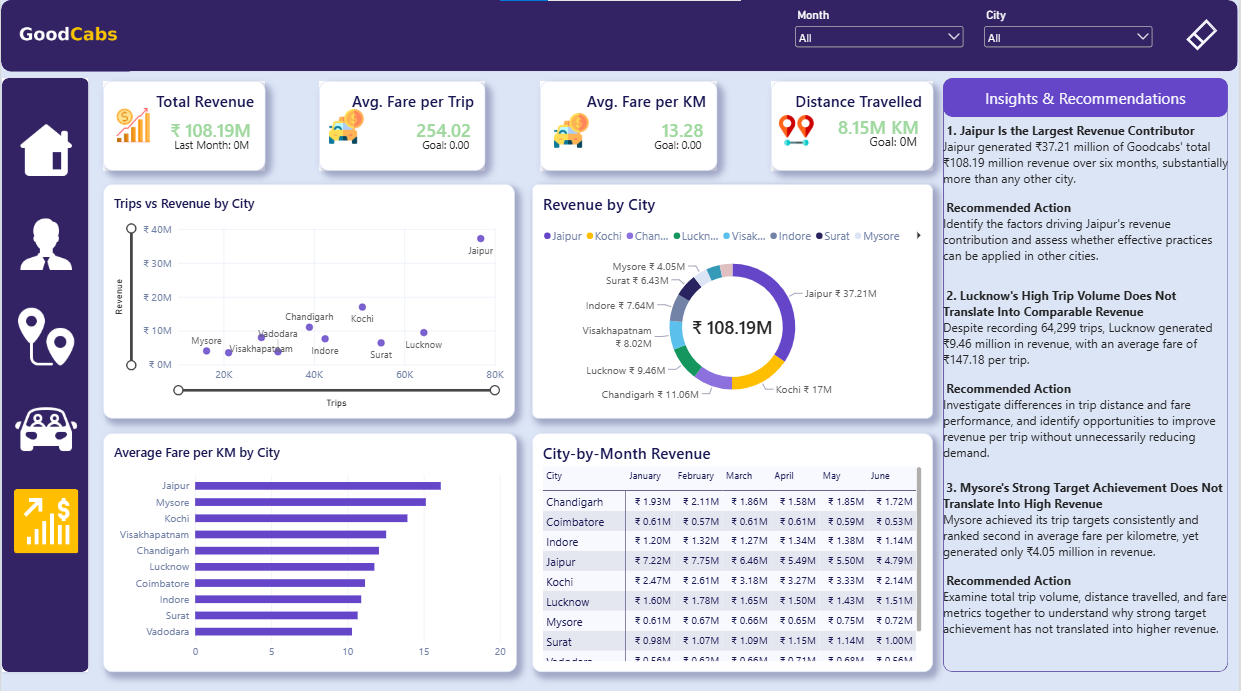

The dashboard page shown, as its layout file describes it:
{"tool":"powerbi","page":{"name":"Revenue Analysis","canvas":[1920,1080],"ordinal":4},"visuals":[{"type":"shape","box":[0,0,1919.3,110.6],"z":0},{"type":"shape","box":[2.2,121.4,134.5,921.7],"z":1000},{"type":"slicer","fields":{"Values":["dim_city.city_name"]},"box":[1521.3,13,271.1,86.7],"z":2000},{"type":"slicer","fields":{"Values":["dim_date.month_name"]},"box":[1227.5,13,271.1,86.7],"z":3000},{"type":"actionButton","box":[1815.2,13,88.9,86.7],"z":4000},{"type":"kpi","title":"Total Revenue","fields":{"Goal":["KEY MEASURES.TOTAL REVENUE LM KPI ALL"],"Indicator":["KEY MEASURES.TOTAL REVENUE KPI ALL"],"TrendLine":["dim_date.start_of_month"]},"box":[158.3,125.8,251.6,138.8],"z":5000,"group":"g4"},{"type":"scatterChart","title":"Trips vs Revenue by City","fields":{"Category":["dim_city.city_name"],"X":["KEY MEASURES.TOTAL TRIPS"],"Y":["KEY MEASURES.TOTAL REVENUE"]},"box":[158.3,286.3,639,364.3],"z":5000},{"type":"kpi","title":"Avg. Fare per Trip","fields":{"Goal":["KEY MEASURES.AVERAGE FARE PER TRIP KPI ALL LM"],"Indicator":["KEY MEASURES.AVERAGE FARE PER TRIP KPI ALL"],"TrendLine":["dim_date.start_of_month"]},"box":[493.7,125.8,258.1,138.8],"z":6000,"group":"g3"},{"type":"kpi","title":"Distance Travelled","fields":{"Goal":["KEY MEASURES.TOTAL DISTANCE LM KPI ALL"],"Indicator":["KEY MEASURES.TOTAL DISTANCE KPI ALL"],"TrendLine":["dim_date.start_of_month"]},"box":[1194.9,125.8,251.6,138.8],"z":6000,"group":"g2"},{"type":"pivotTable","title":"City-by-Month Revenue","fields":{"Columns":["dim_date.month_name"],"Rows":["dim_city.city_name"],"Values":["KEY MEASURES.TOTAL REVENUE"]},"box":[824.1,672.3,622.4,370.8],"z":6000},{"type":"kpi","title":"Avg. Fare per KM","fields":{"Goal":["KEY MEASURES.AVERAGE FARE PER KM LM KPI ALL"],"Indicator":["KEY MEASURES.AVERAGE FARE PER KM KPI ALL"],"TrendLine":["dim_date.start_of_month"]},"box":[835.7,125.8,275.4,138.8],"z":7000,"group":"g1"},{"type":"barChart","title":"Average Fare per KM by City","fields":{"Category":["dim_city.city_name"],"Y":["KEY MEASURES.AVERAGE FARE PER KM"]},"box":[158.3,672.3,641.9,370.8],"z":7000},{"type":"shape","box":[1461.7,121.4,442.4,921.7],"z":8000},{"type":"image","box":[2.2,0,210.4,110.6],"z":9000},{"type":"actionButton","box":[19.5,329.6,100,100],"z":10000},{"type":"actionButton","box":[19.5,472.8,100,100],"z":11000},{"type":"actionButton","box":[19.5,615.9,100,100],"z":12000},{"type":"actionButton","box":[19.5,759,100,100],"z":13000},{"type":"actionButton","box":[19.5,186.5,100,100],"z":14000},{"type":"donutChart","title":"Revenue by City","fields":{"Category":["dim_city.city_name"],"Y":["KEY MEASURES.TOTAL REVENUE"]},"box":[824.1,286.3,622,364],"z":15000},{"type":"group","id":"g1","title":"Group 1","box":[835.7,125.8,275.4,138.8],"z":16000},{"type":"group","id":"g2","title":"Group 3","box":[1194.9,125.8,251.6,138.8],"z":17000},{"type":"group","id":"g3","title":"Group 4","box":[493.7,125.8,258.1,138.8],"z":18000},{"type":"group","id":"g4","title":"Group 5","box":[158.3,125.8,251.6,138.8],"z":19000},{"type":"shape","box":[1461.7,121.4,442.4,60.7],"z":20000},{"type":"textbox","box":[1461.7,188.7,442.4,240.7],"z":21000},{"type":"textbox","box":[1461.7,444.6,442.4,277.6],"z":22000},{"type":"image","box":[1203.6,175.7,60.7,54.2],"z":23000,"group":"g2"},{"type":"textbox","box":[1461.7,743.9,442.4,277.6],"z":23000},{"type":"image","box":[508.9,169.2,54.2,54.2],"z":23002,"group":"g3"},{"type":"image","box":[857.4,175.7,54.2,54.2],"z":25000,"group":"g1"},{"type":"image","box":[177.8,167,54.2,54.2],"z":25001,"group":"g4"}]}

Visuals, with their boxes on the page's 1920x1080 design canvas (x1, y1, x2, y2). These are canvas units, not pixel positions in the 1241x691 screenshot, which may show the page scaled, cropped or inside an application window:
shape: <region>0, 0, 1919, 111</region>
shape: <region>2, 121, 137, 1043</region>
slicer - dim_city.city_name: <region>1521, 13, 1792, 100</region>
slicer - dim_date.month_name: <region>1228, 13, 1499, 100</region>
actionButton: <region>1815, 13, 1904, 100</region>
"Total Revenue" kpi: <region>158, 126, 410, 265</region>
"Trips vs Revenue by City" scatterChart: <region>158, 286, 797, 651</region>
"Avg. Fare per Trip" kpi: <region>494, 126, 752, 265</region>
"Distance Travelled" kpi: <region>1195, 126, 1446, 265</region>
"City-by-Month Revenue" pivotTable: <region>824, 672, 1446, 1043</region>
"Avg. Fare per KM" kpi: <region>836, 126, 1111, 265</region>
"Average Fare per KM by City" barChart: <region>158, 672, 800, 1043</region>
shape: <region>1462, 121, 1904, 1043</region>
image: <region>2, 0, 213, 111</region>
actionButton: <region>20, 330, 120, 430</region>
actionButton: <region>20, 473, 120, 573</region>
actionButton: <region>20, 616, 120, 716</region>
actionButton: <region>20, 759, 120, 859</region>
actionButton: <region>20, 186, 120, 286</region>
"Revenue by City" donutChart: <region>824, 286, 1446, 650</region>
"Group 1" group: <region>836, 126, 1111, 265</region>
"Group 3" group: <region>1195, 126, 1446, 265</region>
"Group 4" group: <region>494, 126, 752, 265</region>
"Group 5" group: <region>158, 126, 410, 265</region>
shape: <region>1462, 121, 1904, 182</region>
textbox: <region>1462, 189, 1904, 429</region>
textbox: <region>1462, 445, 1904, 722</region>
image: <region>1204, 176, 1264, 230</region>
textbox: <region>1462, 744, 1904, 1022</region>
image: <region>509, 169, 563, 223</region>
image: <region>857, 176, 912, 230</region>
image: <region>178, 167, 232, 221</region>
